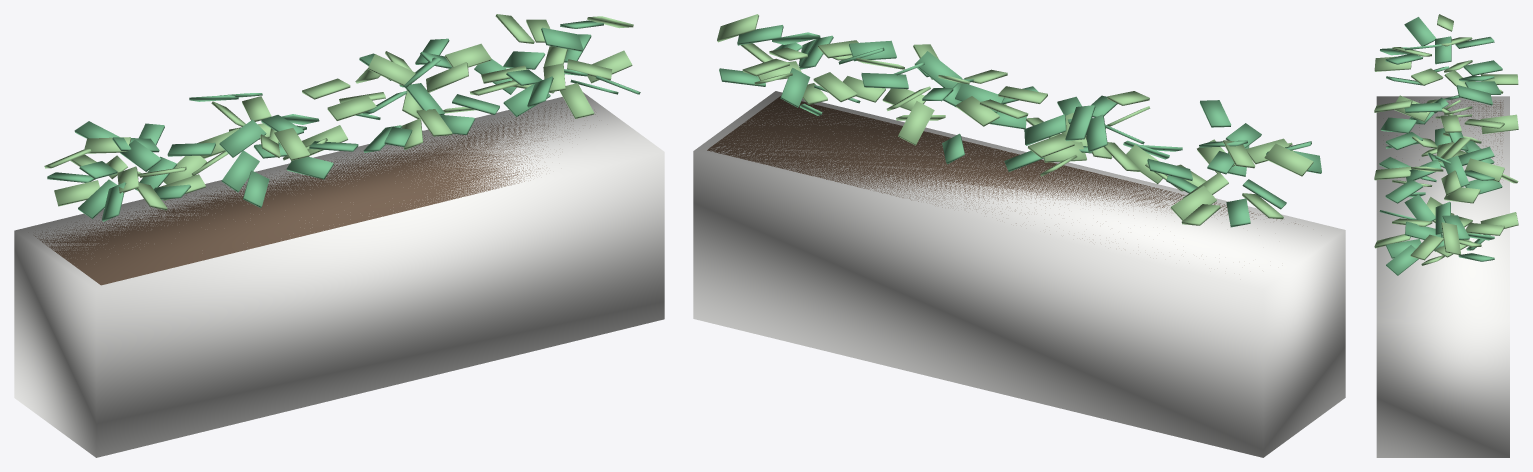
Rendered from SM_PlanterBox.fbx.
The picture shows the model from 3 angles, left to right: view 1: azimuth 30°, elevation 25°; view 2: azimuth 150°, elevation 25°; view 3: azimuth 270°, elevation 25°; orthographic projection. The views are drawn at different scales.
Visible parts, largest first — view 1: SM_PlanterBox; view 2: SM_PlanterBox; view 3: SM_PlanterBox.
Boxes of the visible parts, x1,y1,x2,y2 form: SM_PlanterBox: [14, 14, 664, 457]; SM_PlanterBox: [693, 14, 1345, 457]; SM_PlanterBox: [1374, 14, 1518, 457].
Size of the model in its own units: 1.65 by 0.7535 by 0.434.
